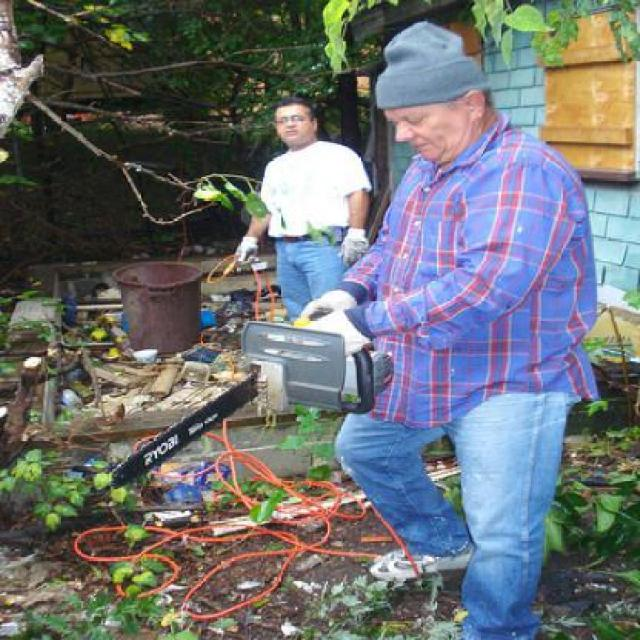Chainsaw: (106, 308, 394, 487)
